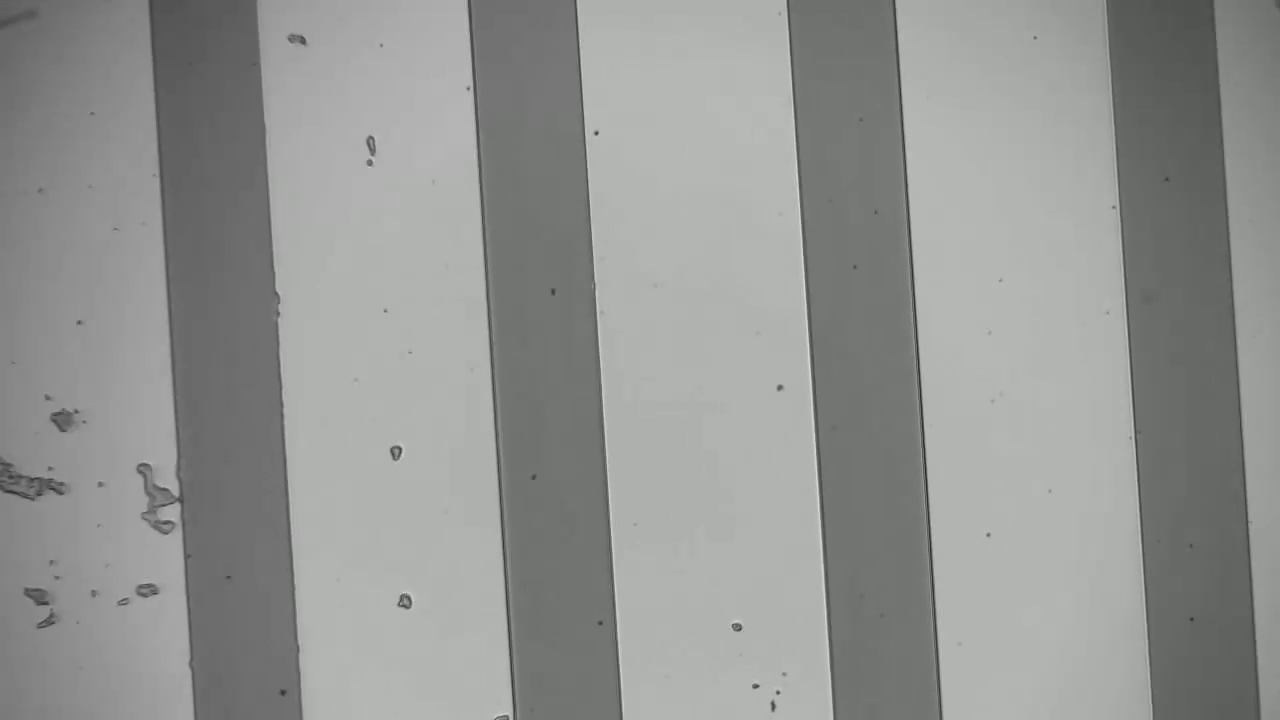edge_bite: (265, 284, 297, 314)
